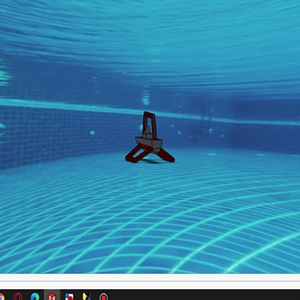submarine: (126, 110, 174, 164)
